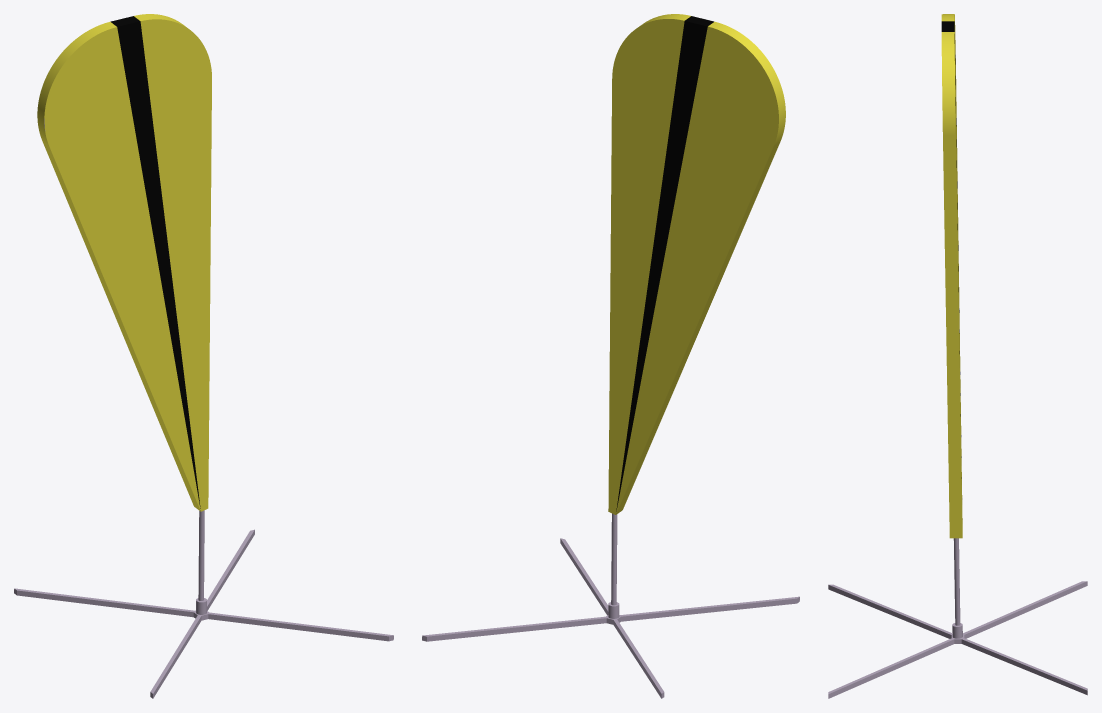
Rendered from bandera.fbx.
3 views of the same model, side by side, from view 1: azimuth 30°, elevation 25°; view 2: azimuth 150°, elevation 25°; view 3: azimuth 270°, elevation 25° (orthographic). The views are drawn at different scales.
Visible parts, largest first — view 1: Флаг 3 на стальном основании; view 2: Флаг 3 на стальном основании; view 3: Флаг 3 на стальном основании.
Boxes of the visible parts, x1,y1,x2,y2 form: Флаг 3 на стальном основании: [14, 14, 393, 698]; Флаг 3 на стальном основании: [422, 14, 799, 698]; Флаг 3 на стальном основании: [828, 14, 1087, 698].
Size of the model in its own units: 120 by 247 by 100.
